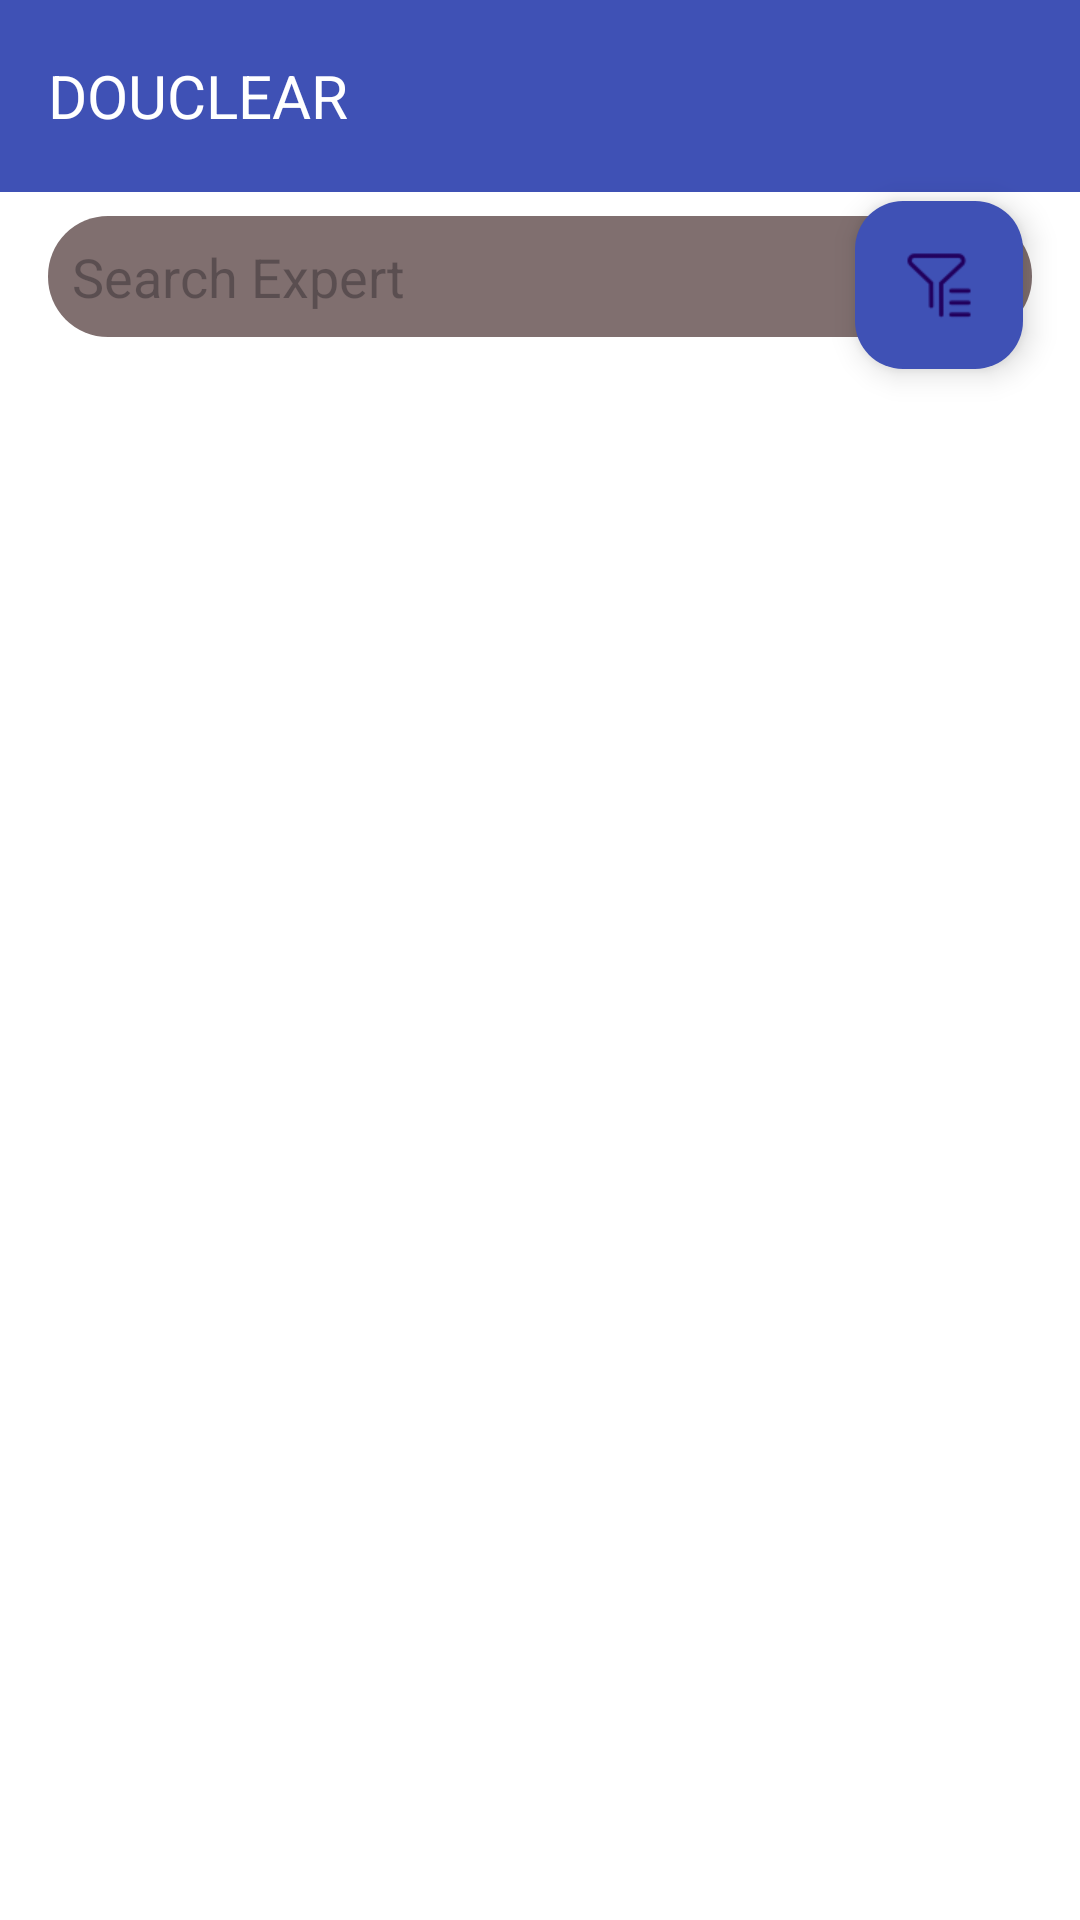

Icons on this 1080 x 1920 Android screen, each with the point to tap as point (x, y):
filter: point (939, 285)
